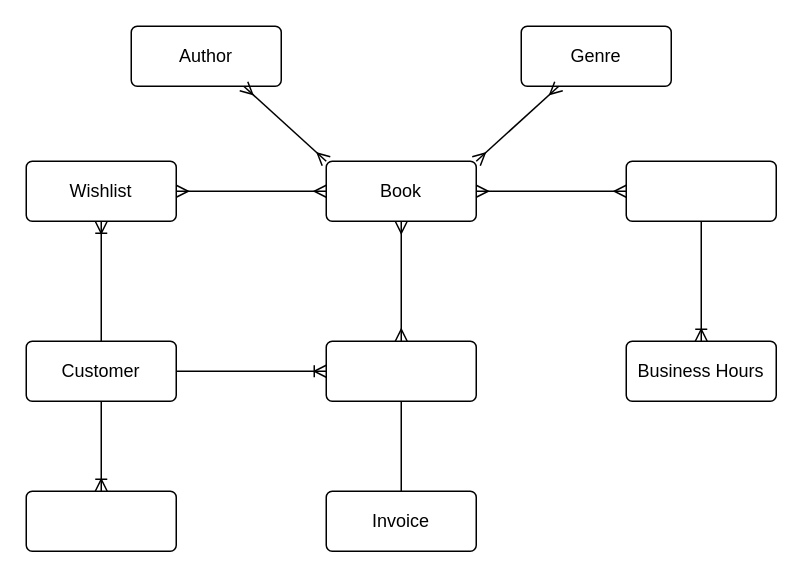
The diagram is 803 pixels wide and 579 high, and some of its shapes have lost their labels. Here are the shapes that lost their labels. From the top down, the box of each, then its label:
(625, 160, 776, 221): Store
(325, 340, 476, 401): Order
(25, 490, 176, 551): Notification
